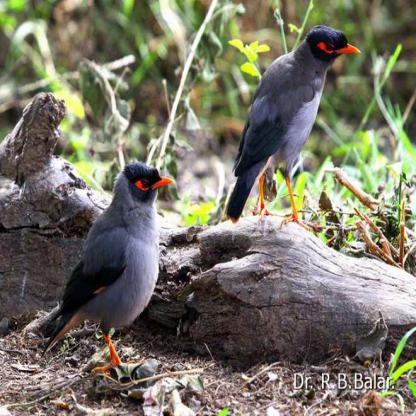Burung: (224, 22, 362, 230), (43, 164, 174, 373)
